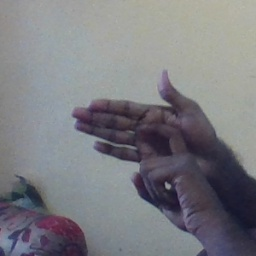R: (69, 64, 215, 203)
